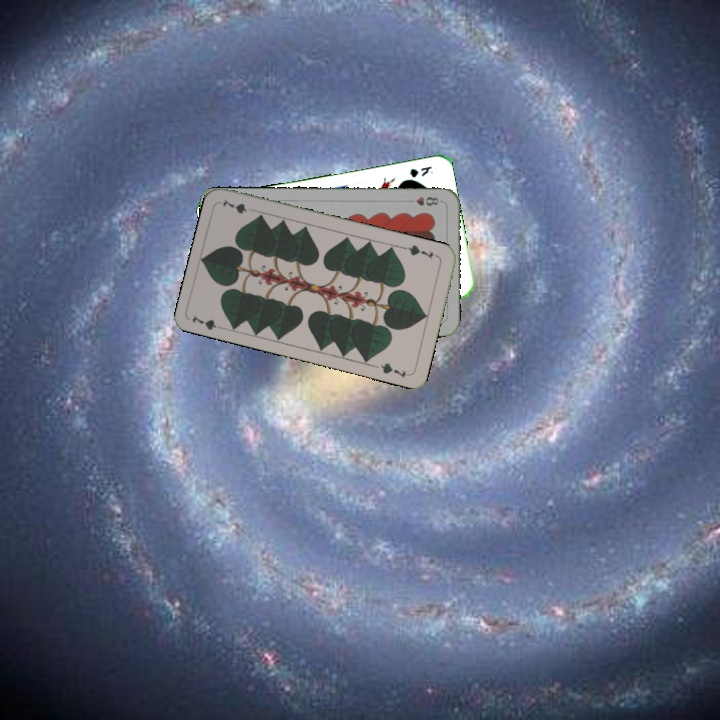G7: (188, 311, 228, 333), (401, 241, 436, 261)
GK: (406, 162, 435, 180)
H8: (403, 193, 441, 208)
